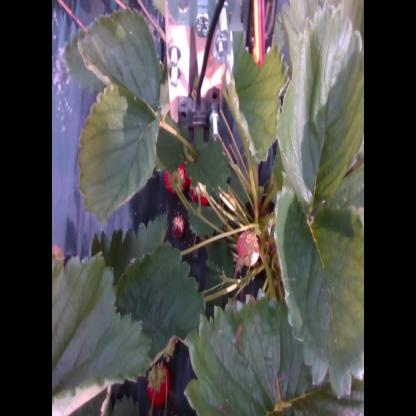ripe: (146, 360, 171, 409), (163, 147, 186, 197), (188, 157, 210, 206), (170, 213, 186, 240)
unripe: (237, 228, 258, 272)
